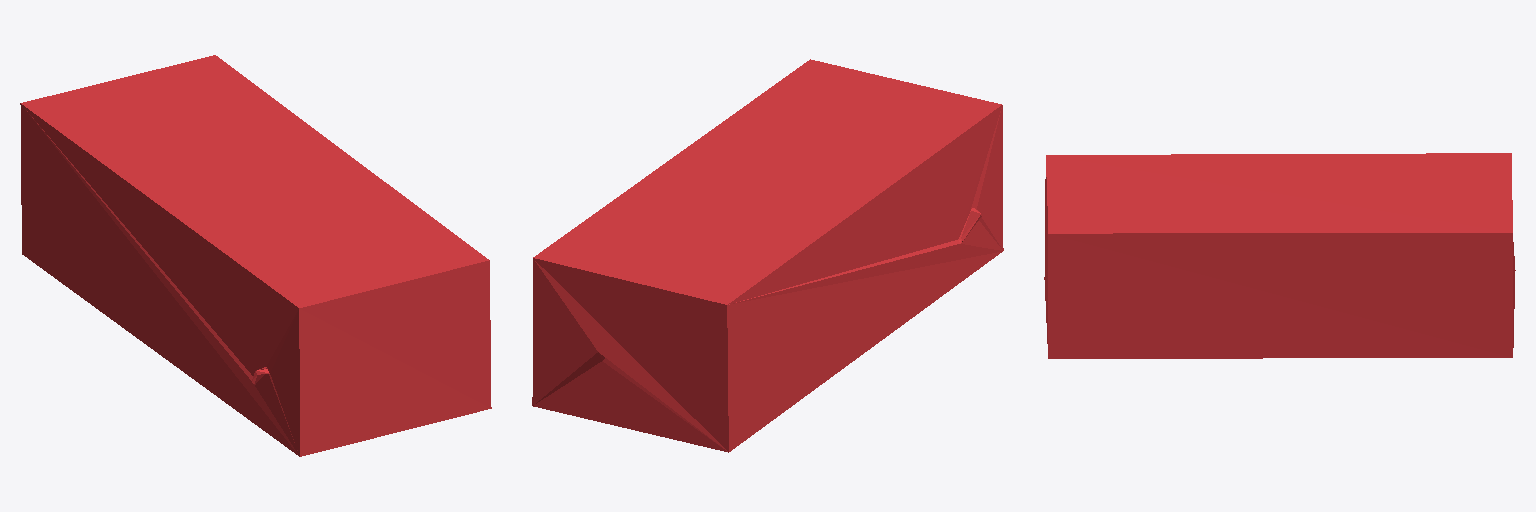
The robot description file, URDF, robot "blob482":

<robot name="blob482">
  <link name="random_obj_482">
    <contact>
      <lateral_friction value="1.0"/>
      <rolling_friction value="0.0"/>
      <inertia_scaling value="3.0"/>
      <contact_cfm value="0.0"/>
      <contact_erp value="1.0"/>
    </contact>
    <inertial>
      <origin rpy="0 0 0" xyz="0 0 0"/>
      <mass value="0.1020"/>
      <inertia ixx="1" ixy="0" ixz="0" iyy="1" iyz="0" izz="0"/>
    </inertial>
    <visual>
      <origin rpy="0 0 0" xyz="0 0 0"/>
      <geometry>
        <mesh filename="482.obj" scale="0.0085 0.0085 0.0085"/>
      </geometry>
      <material name="blockmat">
        <color rgba="0.89 0.28 0.30 1"/>
      </material>
    </visual>
    <collision>
      <origin rpy="0 0 0" xyz="0 0 0"/>
      <geometry>
        <mesh filename="482_coll.obj" scale="0.0085 0.0085 0.0085"/>
      </geometry>
    </collision>
  </link>
</robot>

--- What the picture shows (computed from the rendered views, not written in the file) ---
3 views of the same robot in one strip: view 1: azimuth 30°, elevation 25°; view 2: azimuth 150°, elevation 25°; view 3: azimuth 270°, elevation 25° (orthographic).
Robot: blob482 — 1 links, 0 joints (none); root link random_obj_482; default pose: every joint at zero.
Visible links, largest first — view 1: random_obj_482; view 2: random_obj_482; view 3: random_obj_482.
Boxes of the visible links, box(x1,y1,x2,y2) form: random_obj_482: box(20, 55, 491, 456); random_obj_482: box(532, 59, 1003, 452); random_obj_482: box(1044, 153, 1515, 358).
Bounding box of the posed robot: 0.0437 × 0.1033 × 0.0306 m (x, y, z).
Meshes: 1 distinct files referenced, 1 mesh visuals loaded (1 OBJ).
